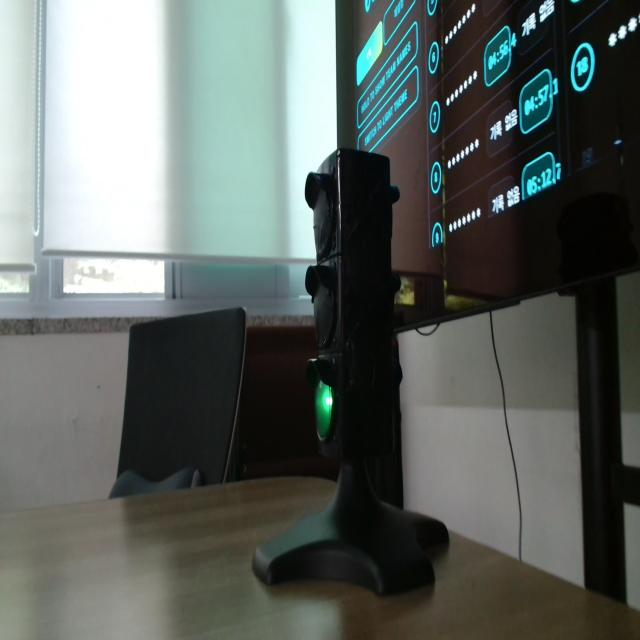green_light: (316, 382, 333, 439)
